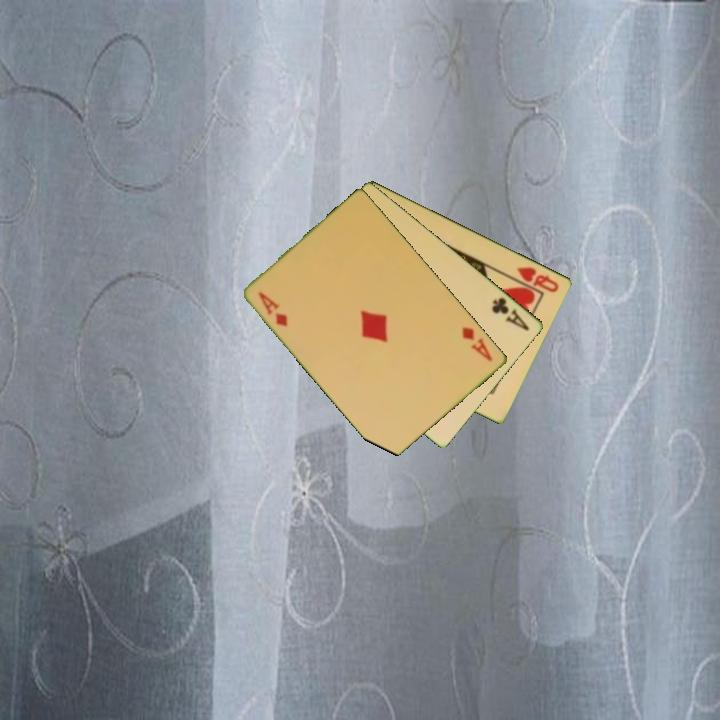Ac: (489, 294, 533, 334)
Ad: (459, 323, 496, 364), (255, 288, 291, 329)
Qh: (513, 263, 562, 295)
